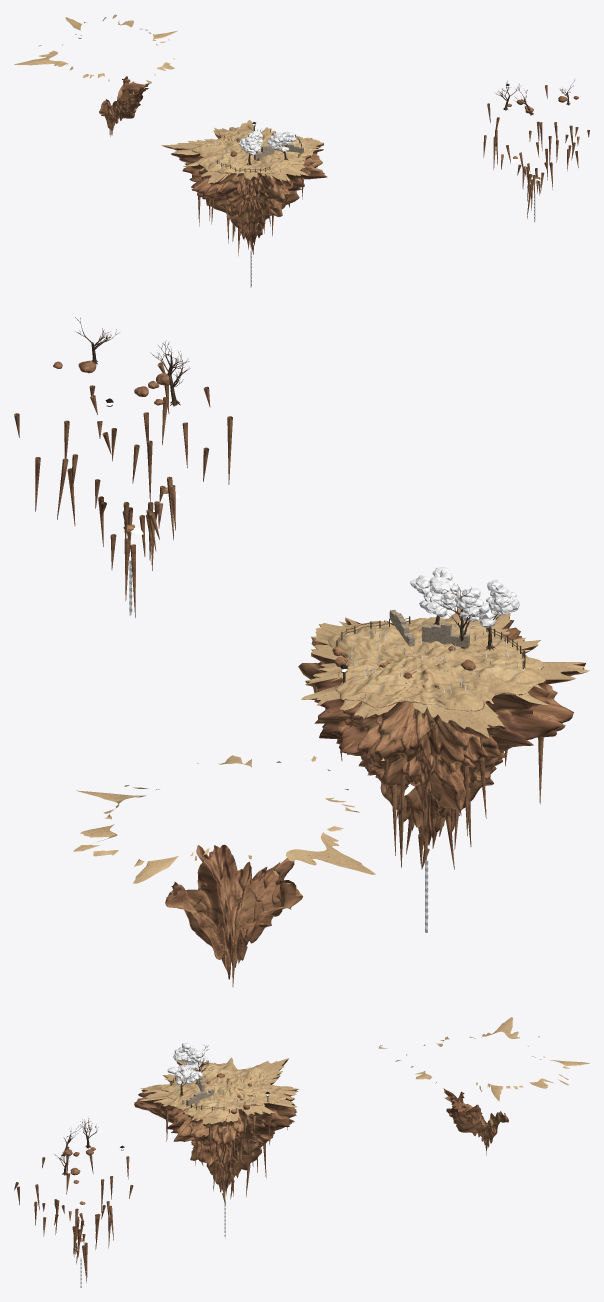
Rendered from map_islands_05.glb.
The picture shows the model from 3 angles, top to bottom: view 1: azimuth 30°, elevation 25°; view 2: azimuth 150°, elevation 25°; view 3: azimuth 270°, elevation 25°; orthographic projection. The views are drawn at different scales.
Visible parts, largest first — view 1: Isl04_under__cliff_00, Isl05_props__cliff, Isl04_top__sand_00, Isl04_top__sand_02, Isl03_under__cliff_02, Isl04_top__sand_01, Isl04_under__cliff_02, Isl03_under__sand, Isl04_under__cliff_01, Isl04_props__leaf_00, Isl04_props__cliff, Isl04_under__sand; view 2: Isl04_under__cliff_00, Isl03_under__cliff_02, Isl04_top__sand_00, Isl05_props__cliff, Isl04_top__sand_01, Isl04_under__cliff_01, Isl04_top__sand_02, Isl04_props__cliff, Isl03_under__sand, Isl04_props__leaf_00, Isl04_under__sand, Isl04_props__stone (+2 smaller); view 3: Isl04_under__cliff_00, Isl04_under__cliff_01, Isl04_top__sand_00, Isl05_props__cliff, Isl03_under__cliff_02, Isl04_top__sand_02, Isl04_top__sand_01, Isl04_props__cliff, Isl03_under__sand, Isl04_props__leaf_00, Isl04_under__cliff_02, Isl04_under__sand (+1 smaller).
Part boxes in pixels (bbox=[...]): Isl04_under__cliff_00: bbox=[161, 128, 327, 210]; Isl05_props__cliff: bbox=[483, 85, 589, 218]; Isl04_top__sand_00: bbox=[198, 129, 283, 168]; Isl04_top__sand_02: bbox=[162, 120, 323, 182]; Isl03_under__cliff_02: bbox=[99, 76, 149, 136]; Isl04_top__sand_01: bbox=[195, 127, 306, 178]; Isl04_under__cliff_02: bbox=[241, 190, 299, 250]; Isl03_under__sand: bbox=[14, 14, 177, 95]; Isl04_under__cliff_01: bbox=[206, 138, 323, 247]; Isl04_props__leaf_00: bbox=[202, 128, 296, 170]; Isl04_props__cliff: bbox=[186, 132, 316, 255]; Isl04_under__sand: bbox=[172, 127, 305, 183]; Isl04_under__cliff_00: bbox=[303, 615, 585, 798]; Isl03_under__cliff_02: bbox=[165, 844, 302, 986]; Isl04_top__sand_00: bbox=[340, 628, 530, 701]; Isl05_props__cliff: bbox=[14, 360, 232, 617]; Isl04_top__sand_01: bbox=[336, 622, 560, 717]; Isl04_under__cliff_01: bbox=[298, 624, 502, 855]; Isl04_top__sand_02: bbox=[301, 608, 584, 738]; Isl04_props__cliff: bbox=[313, 645, 543, 869]; Isl03_under__sand: bbox=[73, 755, 384, 883]; Isl04_props__leaf_00: bbox=[350, 566, 518, 707]; Isl04_under__sand: bbox=[305, 614, 589, 726]; Isl04_props__stone: bbox=[389, 609, 469, 647]; Isl04_under__cliff_00: bbox=[135, 1058, 299, 1146]; Isl04_under__cliff_01: bbox=[134, 1102, 264, 1195]; Isl04_top__sand_00: bbox=[176, 1064, 279, 1111]; Isl05_props__cliff: bbox=[14, 1146, 133, 1282]; Isl03_under__cliff_02: bbox=[443, 1088, 508, 1155]; Isl04_top__sand_02: bbox=[140, 1058, 296, 1124]; Isl04_top__sand_01: bbox=[168, 1061, 298, 1113]; Isl04_props__cliff: bbox=[166, 1073, 287, 1204]; Isl03_under__sand: bbox=[378, 1017, 589, 1101]; Isl04_props__leaf_00: bbox=[167, 1043, 279, 1106]; Isl04_under__cliff_02: bbox=[190, 1143, 238, 1193]; Isl04_under__sand: bbox=[143, 1057, 297, 1121].
Size of the model in its own units: 254 by 137 by 320.
9 materials, 6 textured.
